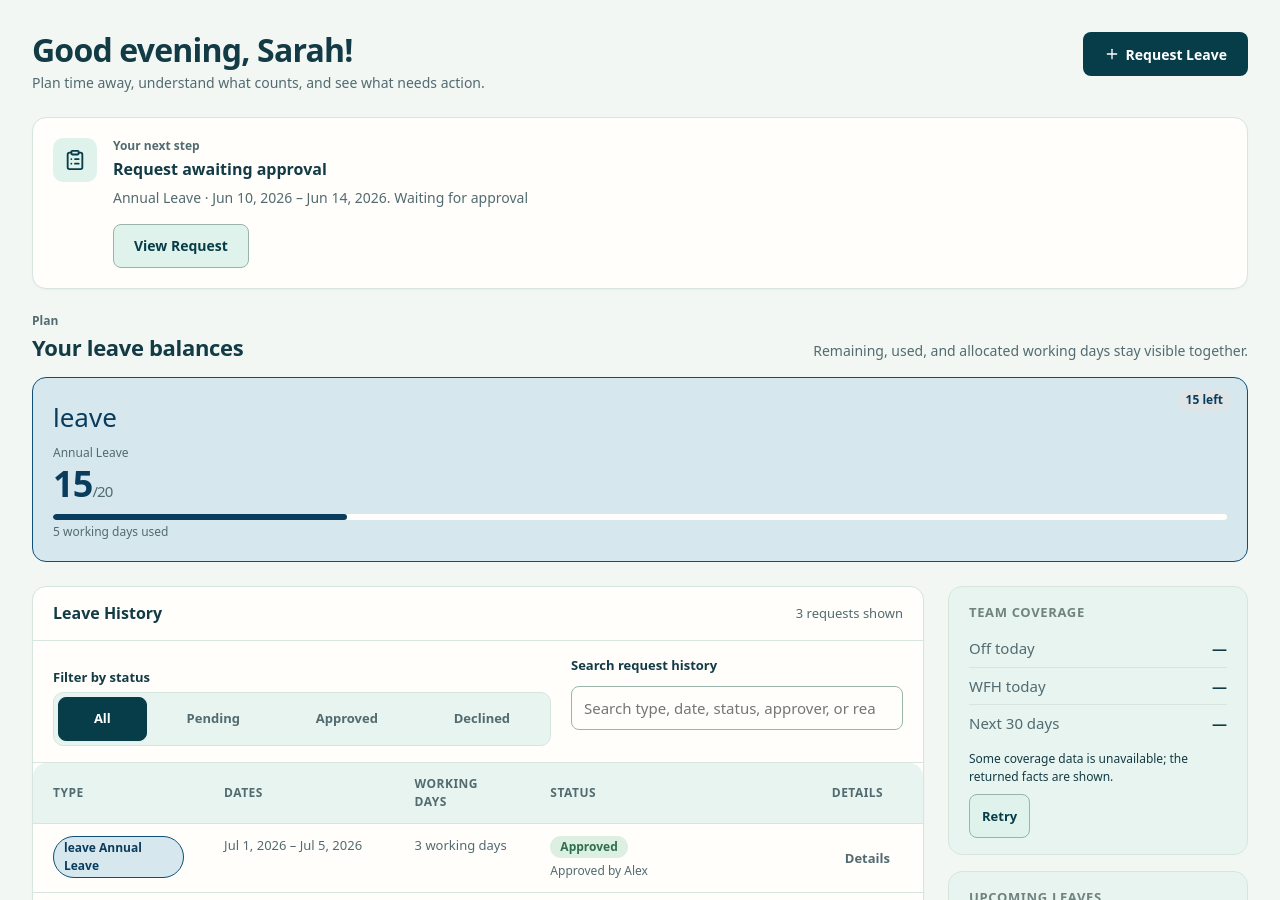
Test: MyLeavesFindability ATDD — Story 11.3 › [P0] Given search with no matches, When Clear Filters is used, Then history restores and filters reset
The width and height of the screenshot is (1280, 900).
Type "zzzz-no-match-11-3" into the search field with test id "my-leaves-search" at (737, 708), box x1=571 y1=686 x2=903 y2=730
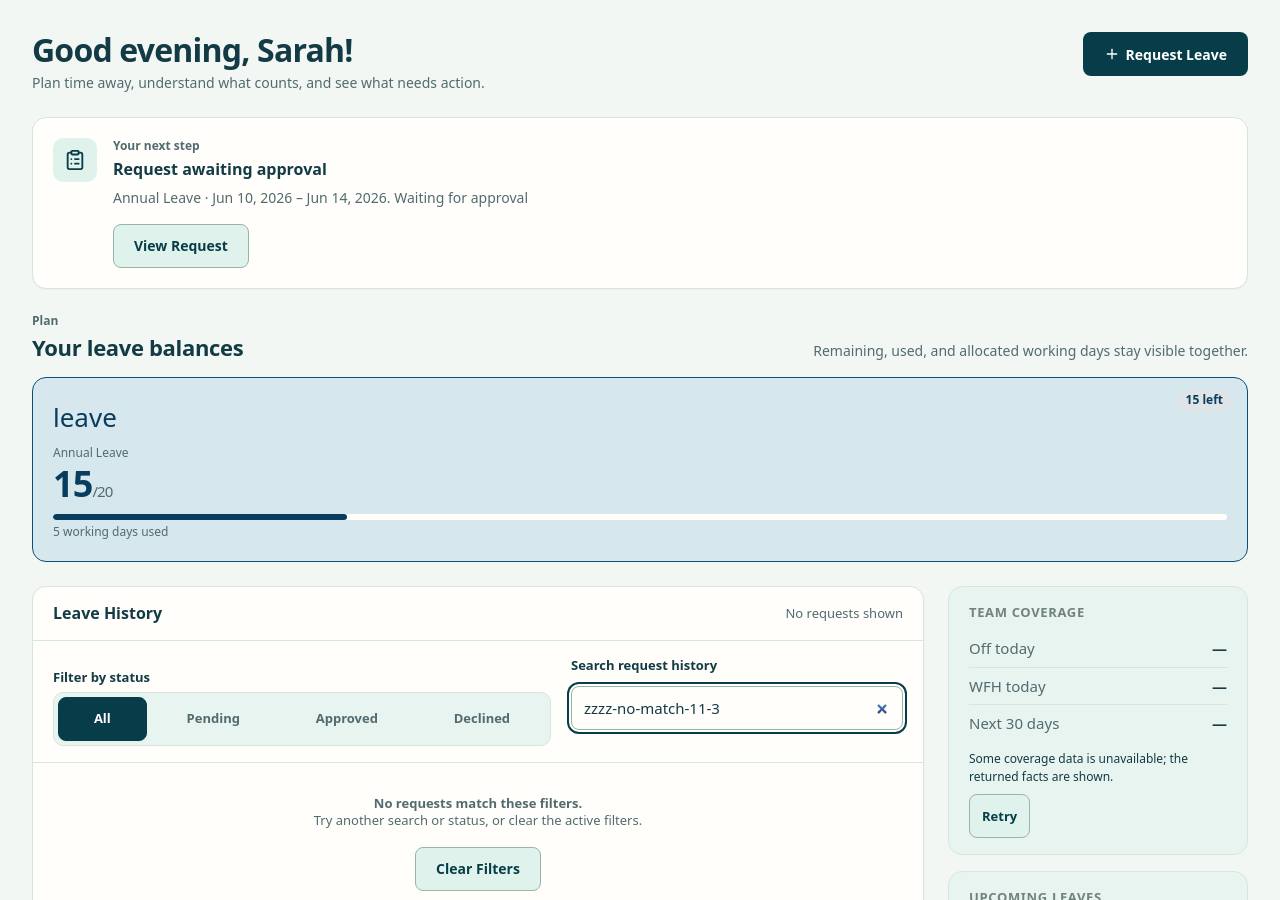
expect the element with test id "my-leaves-filter-empty" shows "No requests match these filters": met, box x1=374 y1=794 x2=582 y2=812
expect the button with test id "my-leaves-clear-filters" is shown: met
Click the button with test id "my-leaves-clear-filters" at (478, 869), box x1=415 y1=847 x2=541 y2=891
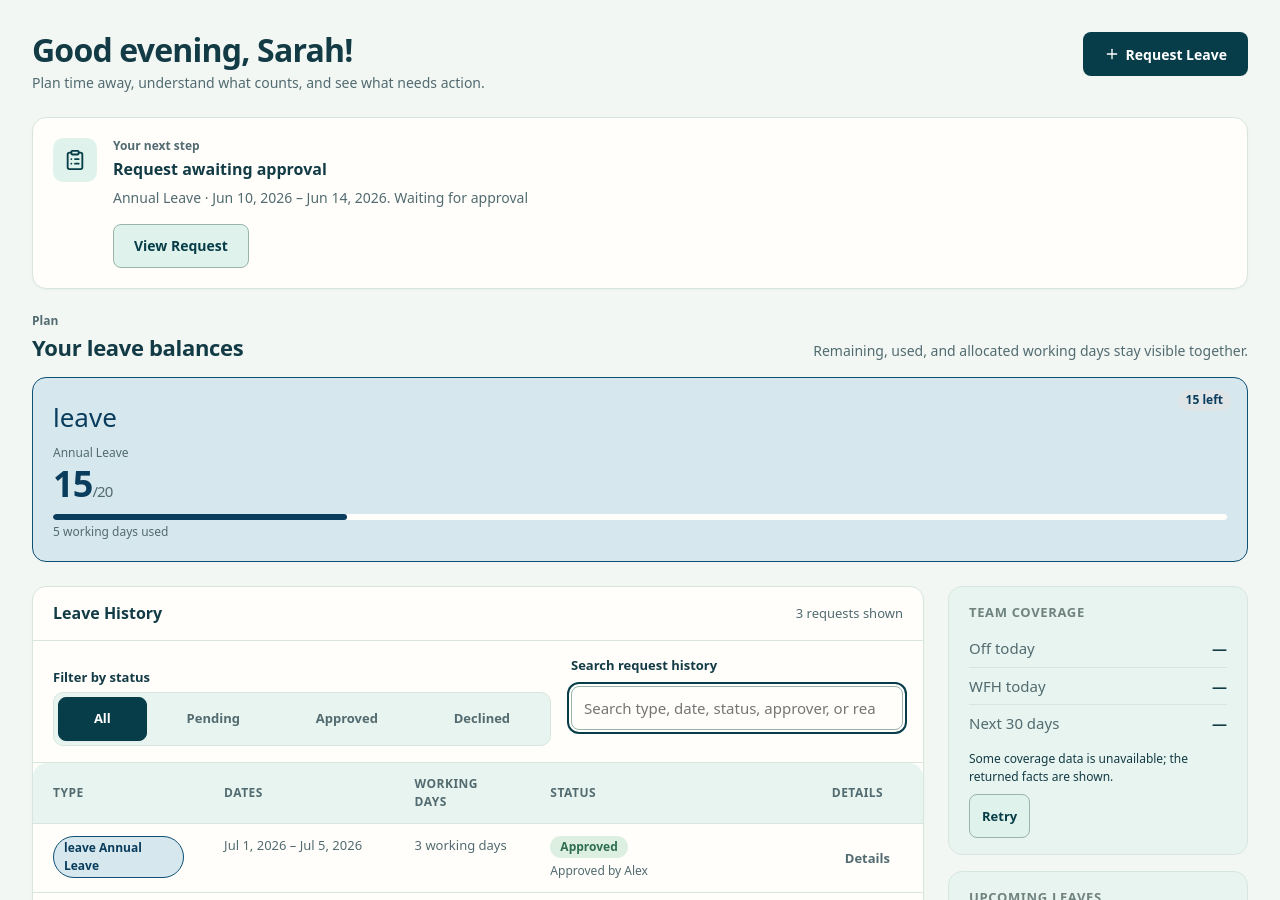
expect the search field with test id "my-leaves-search" is empty: met, box x1=571 y1=686 x2=903 y2=730
